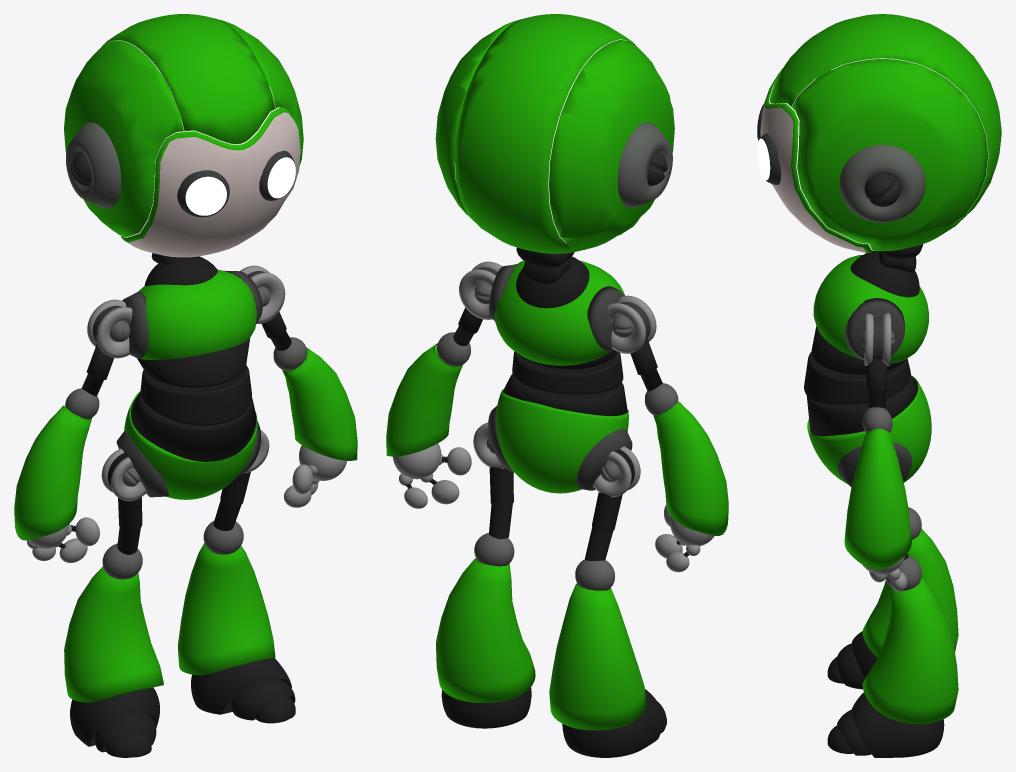
The model's file is asset.glb.
The picture shows the model from 3 angles, left to right: view 1: azimuth 30°, elevation 25°; view 2: azimuth 150°, elevation 25°; view 3: azimuth 270°, elevation 25°; orthographic projection.
Parts seen in each view (by area): view 1: main, lower leg, lower arm, belly, foot, chestplate, butt plate, eyes, ear, SHOULDER, fingers, thigh (+8 smaller); view 2: main, lower leg, lower arm, butt plate, chestplate, belly, foot, SHOULDER, thigh, ear, fingers, ball (+10 smaller); view 3: main, lower leg, lower arm, belly, foot, chestplate, ear, butt plate, cylinder, ball, SHOULDER, eyes (+7 smaller).
Part boxes in pixels (left/top/right/bottom): main: left=64, top=14, right=303, bottom=257; lower leg: left=64, top=543, right=275, bottom=702; lower arm: left=14, top=347, right=357, bottom=540; belly: left=131, top=338, right=256, bottom=461; foot: left=70, top=658, right=295, bottom=757; chestplate: left=138, top=270, right=256, bottom=359; butt plate: left=124, top=391, right=257, bottom=499; eyes: left=177, top=150, right=295, bottom=217; ear: left=66, top=122, right=121, bottom=208; SHOULDER: left=87, top=265, right=285, bottom=358; fingers: left=27, top=464, right=319, bottom=562; thigh: left=117, top=472, right=250, bottom=554; main: left=435, top=14, right=674, bottom=253; lower leg: left=436, top=558, right=646, bottom=730; lower arm: left=386, top=343, right=728, bottom=535; butt plate: left=495, top=389, right=628, bottom=493; chestplate: left=494, top=260, right=624, bottom=365; belly: left=502, top=349, right=627, bottom=416; foot: left=441, top=687, right=666, bottom=757; SHOULDER: left=459, top=261, right=656, bottom=353; thigh: left=489, top=467, right=622, bottom=560; ear: left=617, top=122, right=672, bottom=207; fingers: left=399, top=447, right=700, bottom=572; ball: left=516, top=256, right=589, bottom=308; main: left=760, top=14, right=1001, bottom=252; lower leg: left=862, top=528, right=958, bottom=724; lower arm: left=844, top=428, right=911, bottom=570; belly: left=804, top=326, right=917, bottom=436; foot: left=827, top=631, right=944, bottom=757; chestplate: left=813, top=255, right=929, bottom=363; ear: left=839, top=144, right=925, bottom=222; butt plate: left=807, top=375, right=931, bottom=483; cylinder: left=845, top=298, right=904, bottom=360; ball: left=850, top=251, right=919, bottom=297; SHOULDER: left=864, top=253, right=891, bottom=366; eyes: left=757, top=103, right=781, bottom=184.
Bounding box in the file's own units: 1.7 × 3.38 × 1.09.
